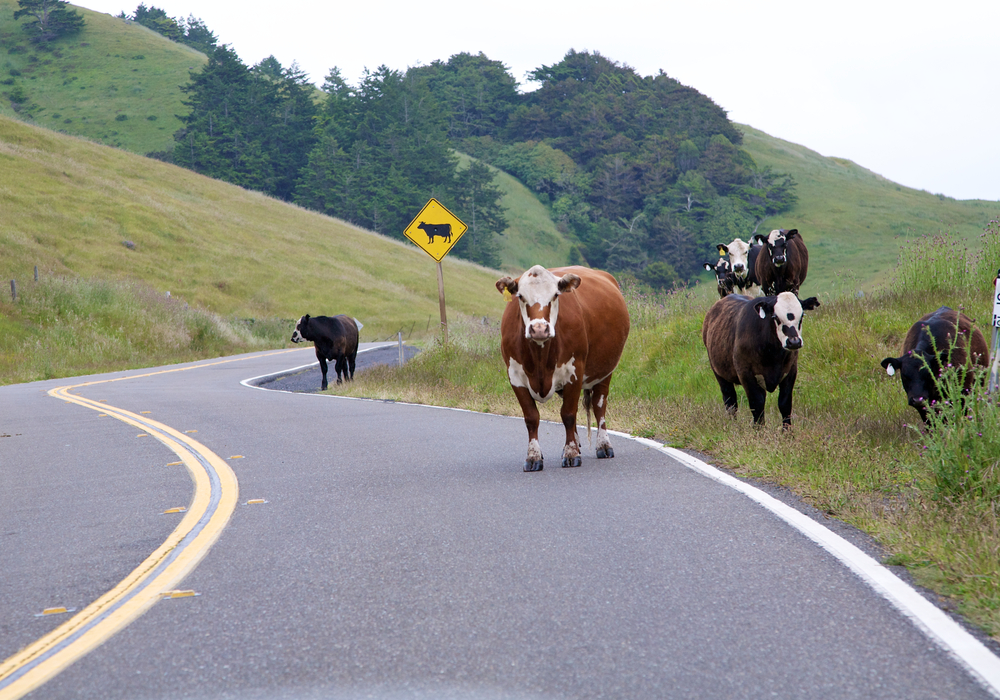inek: (484, 262, 643, 483), (692, 293, 812, 431), (887, 311, 977, 427), (286, 313, 369, 393), (708, 234, 808, 294)
